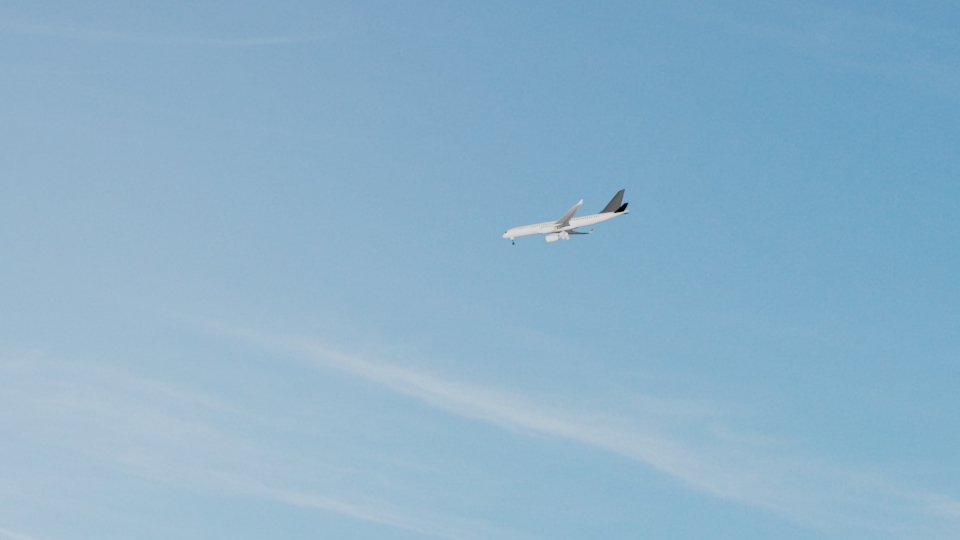plane: (501, 189, 630, 247)
